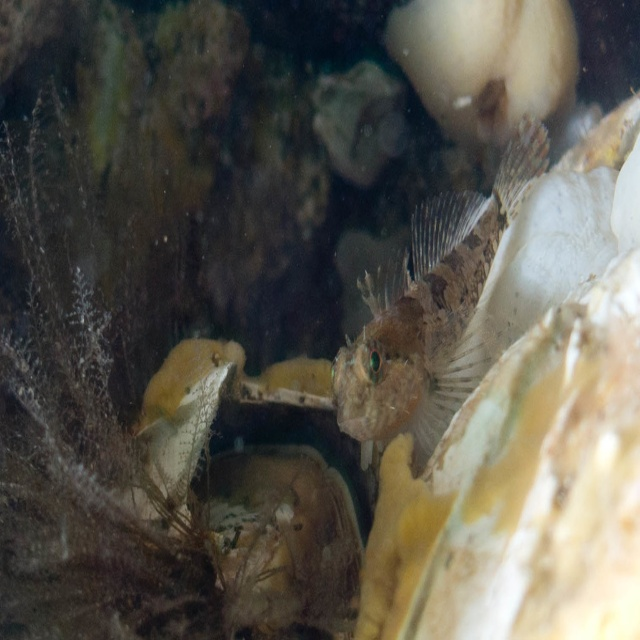Fish: (348, 179, 521, 428)
